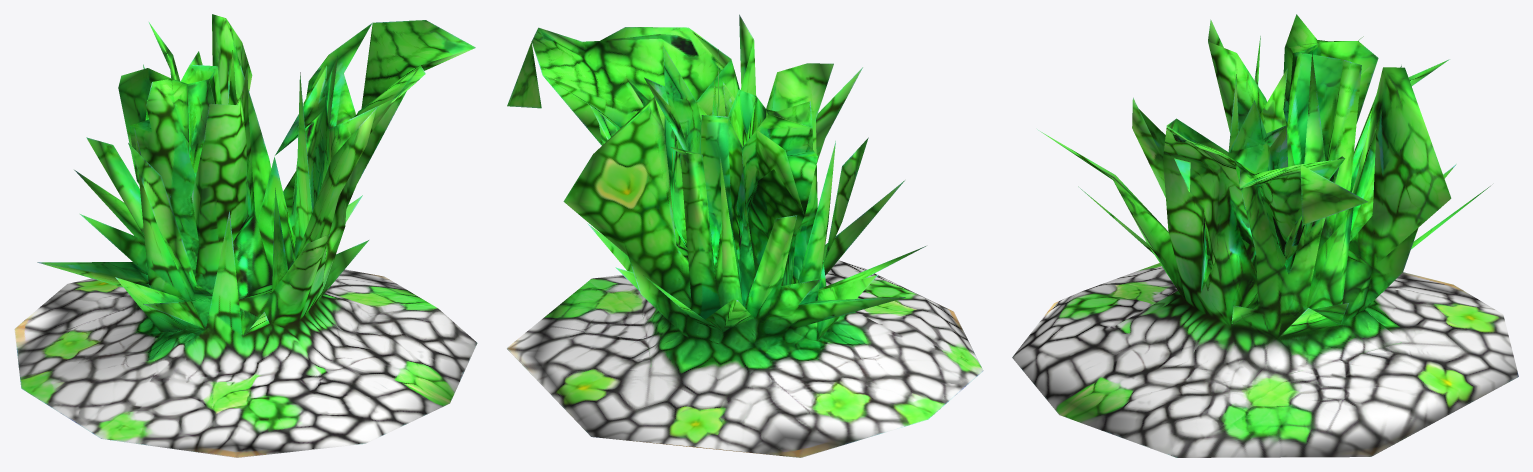
The model's file is p_bush.glb.
The picture shows the model from 3 angles, left to right: view 1: azimuth 30°, elevation 25°; view 2: azimuth 150°, elevation 25°; view 3: azimuth 270°, elevation 25°; orthographic projection. The views are drawn at different scales.
Visible parts, largest first — view 1: Mesh_0; view 2: Mesh_0; view 3: Mesh_0.
Boxes of the visible parts, x1,y1,x2,y2 form: Mesh_0: (14, 14, 477, 457); Mesh_0: (506, 14, 983, 457); Mesh_0: (1012, 14, 1518, 457).
Bounding box in the file's own units: 0.4514 × 0.3 × 0.4416.
Materials: 1 (1 with a texture image).
